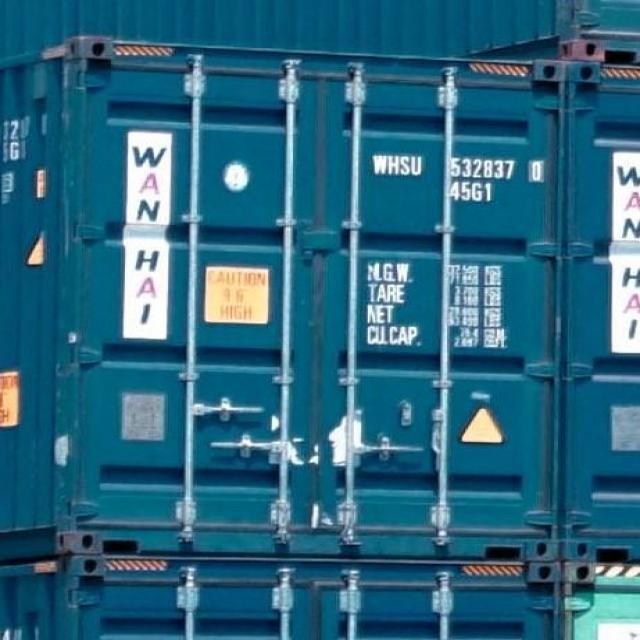ISO: (452, 181, 495, 203)
container_number: (372, 158, 545, 180)
